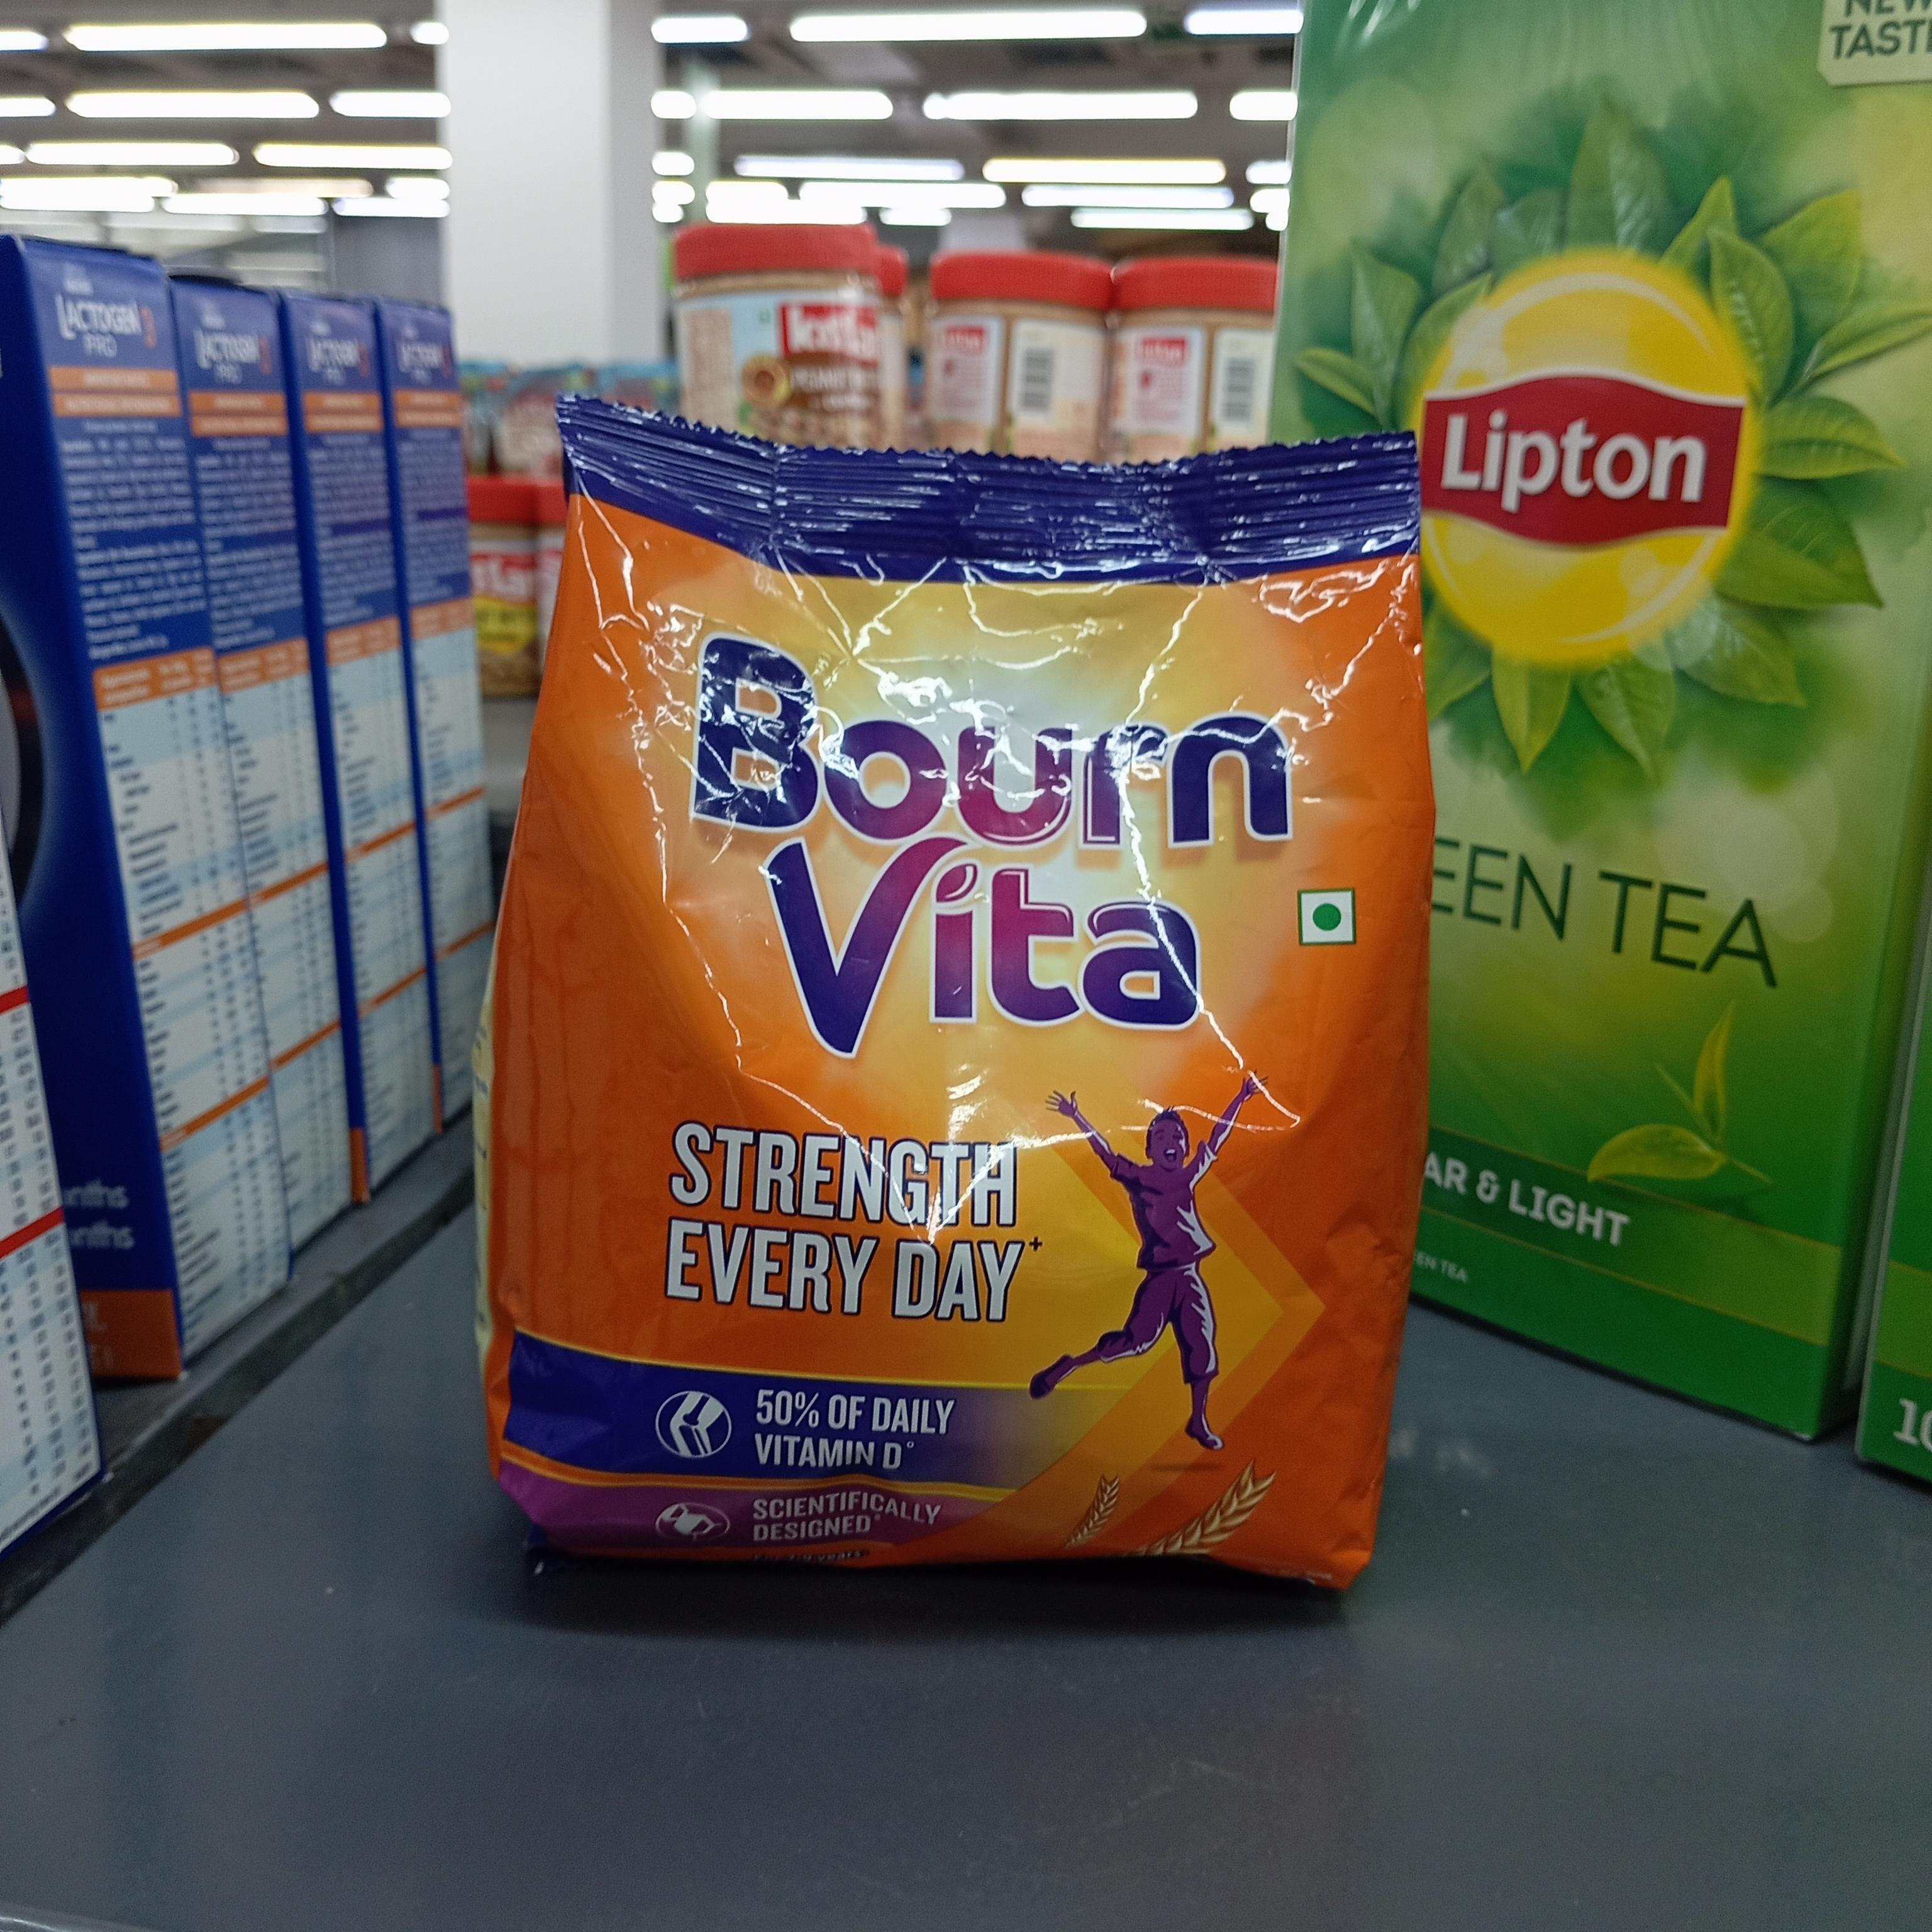BOURN_VITA_500_G_POUCH: (554, 428, 1405, 1591)
